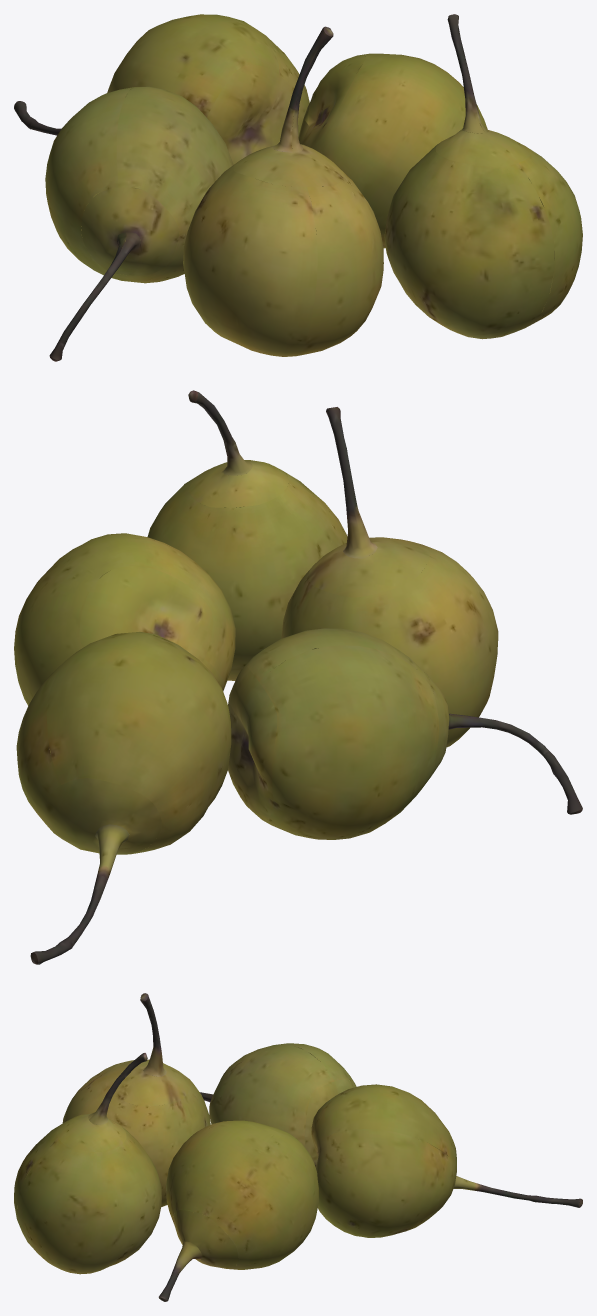
The model's file is food_pears_asian_01.glb.
The picture shows the model from 3 angles, top to bottom: view 1: azimuth 30°, elevation 25°; view 2: azimuth 150°, elevation 25°; view 3: azimuth 270°, elevation 25°; orthographic projection. The views are drawn at different scales.
Parts seen in each view (by area): view 1: food_pears_asian_01_c, food_pears_asian_01_e, food_pears_asian_01_a, food_pears_asian_01_d, food_pears_asian_01_b; view 2: food_pears_asian_01_b, food_pears_asian_01_a, food_pears_asian_01_c, food_pears_asian_01_e, food_pears_asian_01_d; view 3: food_pears_asian_01_d, food_pears_asian_01_b, food_pears_asian_01_e, food_pears_asian_01_a, food_pears_asian_01_c.
Boxes of the visible parts, box(x1,y1,x2,y2) form: food_pears_asian_01_c: box(183, 26, 383, 356); food_pears_asian_01_e: box(384, 14, 582, 339); food_pears_asian_01_a: box(45, 86, 233, 361); food_pears_asian_01_d: box(298, 53, 487, 248); food_pears_asian_01_b: box(14, 14, 309, 164); food_pears_asian_01_b: box(16, 632, 231, 964); food_pears_asian_01_a: box(228, 628, 582, 839); food_pears_asian_01_c: box(281, 407, 498, 747); food_pears_asian_01_e: box(147, 390, 347, 680); food_pears_asian_01_d: box(14, 533, 235, 705); food_pears_asian_01_d: box(158, 1120, 318, 1301); food_pears_asian_01_b: box(311, 1084, 582, 1237); food_pears_asian_01_e: box(14, 1053, 161, 1274); food_pears_asian_01_a: box(200, 1043, 356, 1167); food_pears_asian_01_c: box(62, 993, 210, 1206).
Size of the model in its own units: 0.1261 by 0.0713 by 0.1669.
1 material, 1 textured.
